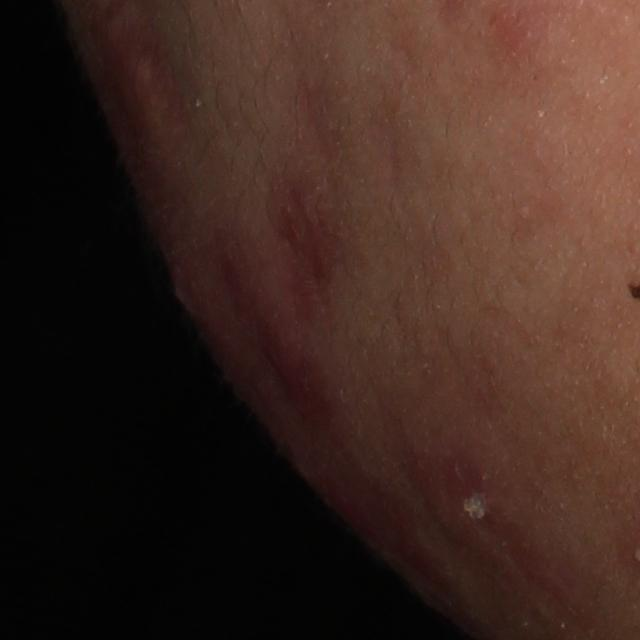papule: (251, 306, 331, 430)
